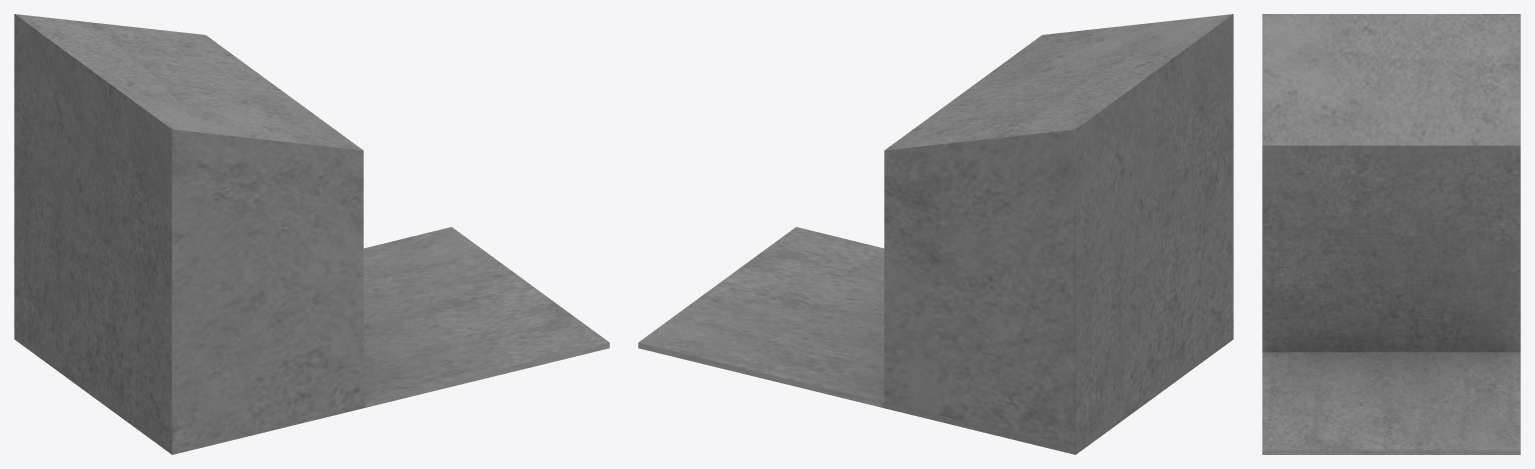
File: podium.glb
The picture shows the model from 3 angles, left to right: view 1: azimuth 30°, elevation 25°; view 2: azimuth 150°, elevation 25°; view 3: azimuth 270°, elevation 25°; orthographic projection. The views are drawn at different scales.
Parts seen in each view (by area): view 1: Cube; view 2: Cube; view 3: Cube.
Part boxes in pixels (x1=…): Cube: x1=14, y1=14, x2=609, y2=454; Cube: x1=638, y1=14, x2=1233, y2=454; Cube: x1=1262, y1=14, x2=1520, y2=454.
Size of the model in its own units: 3.2 by 2.28 by 2.
1 material, 1 textured.
